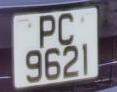1: (80, 41, 92, 81)
2: (61, 42, 81, 84)
6: (42, 45, 63, 85)
9: (22, 47, 44, 87)
C: (56, 10, 77, 49)
P: (37, 13, 57, 51)
